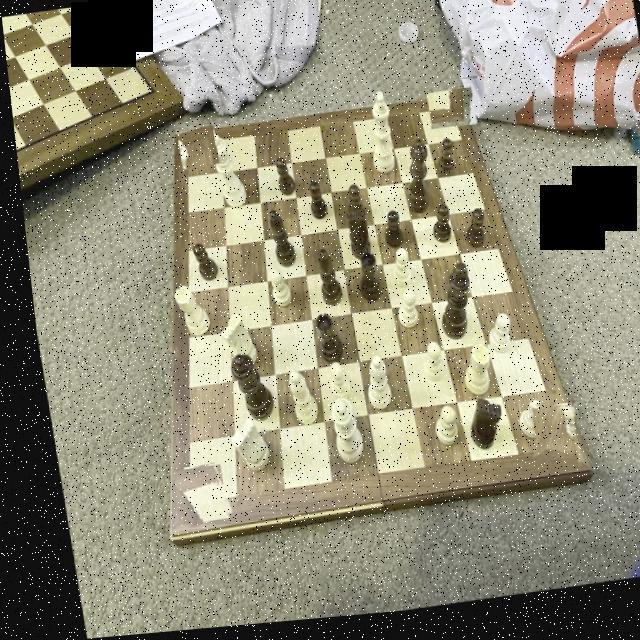chess-table-corners: (515, 409, 569, 482), (162, 464, 219, 528), (172, 120, 216, 171), (423, 94, 473, 136)
